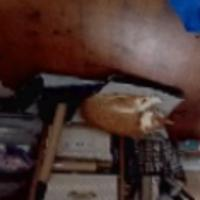asleep: (78, 87, 175, 139)
